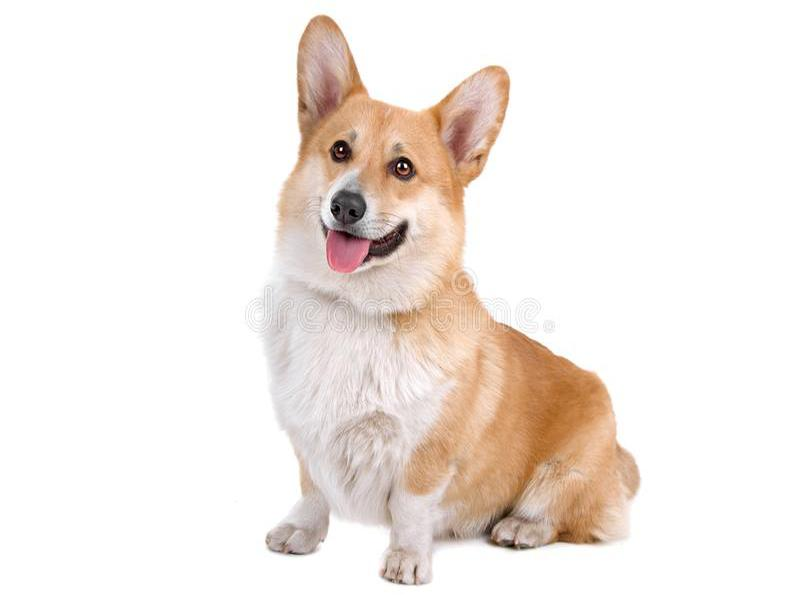corgi: (292, 13, 513, 276)
